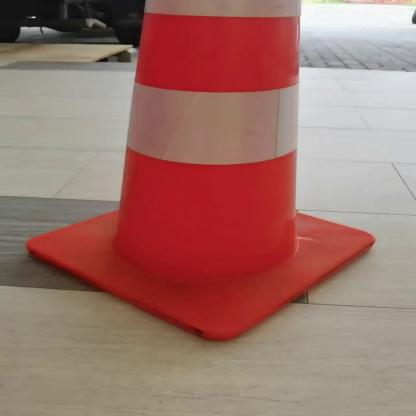cone: (19, 1, 386, 346)
